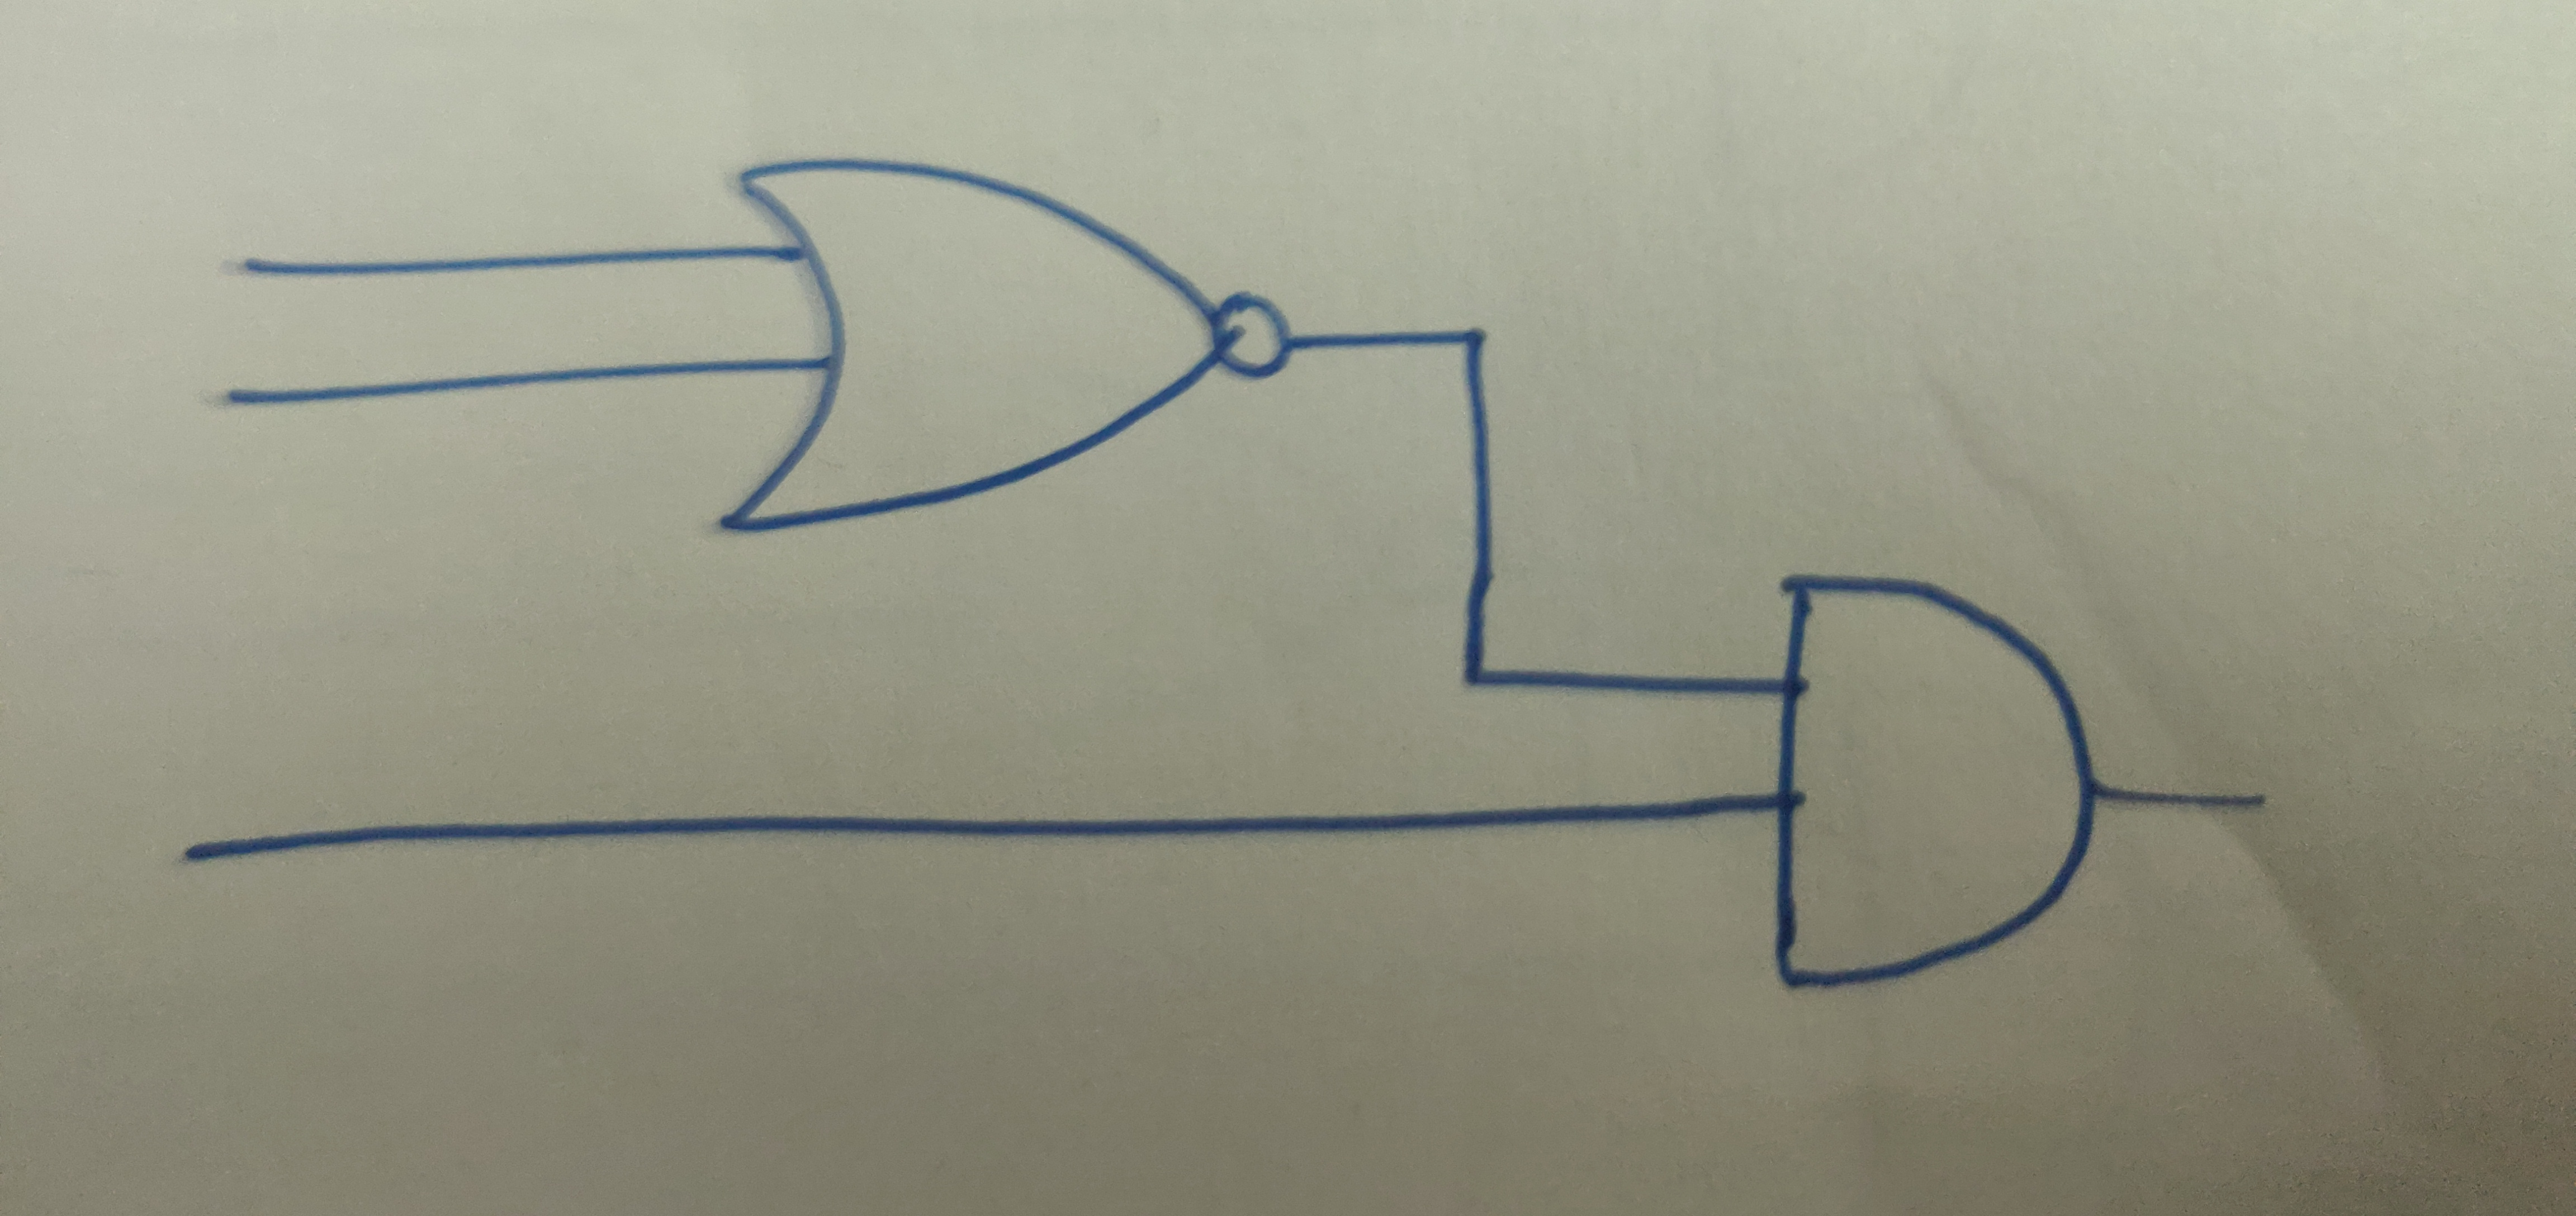and: (1764, 565, 2100, 993)
not: (1212, 289, 1295, 394)
or: (720, 158, 1226, 536)
